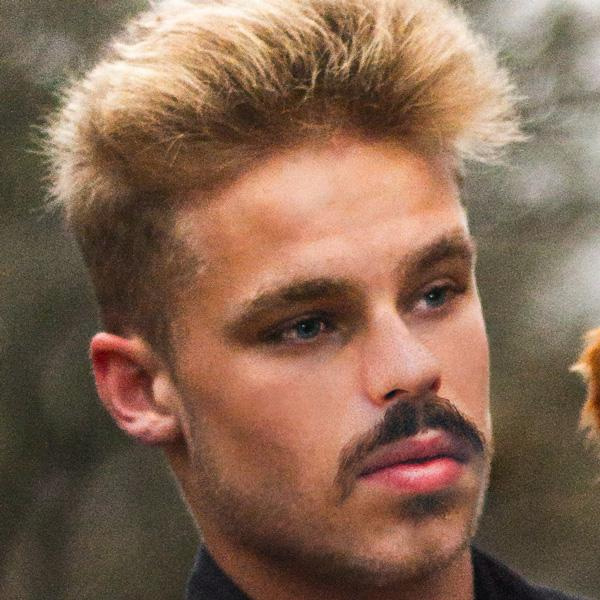Eyes: (251, 298, 355, 363), (396, 264, 478, 331)
